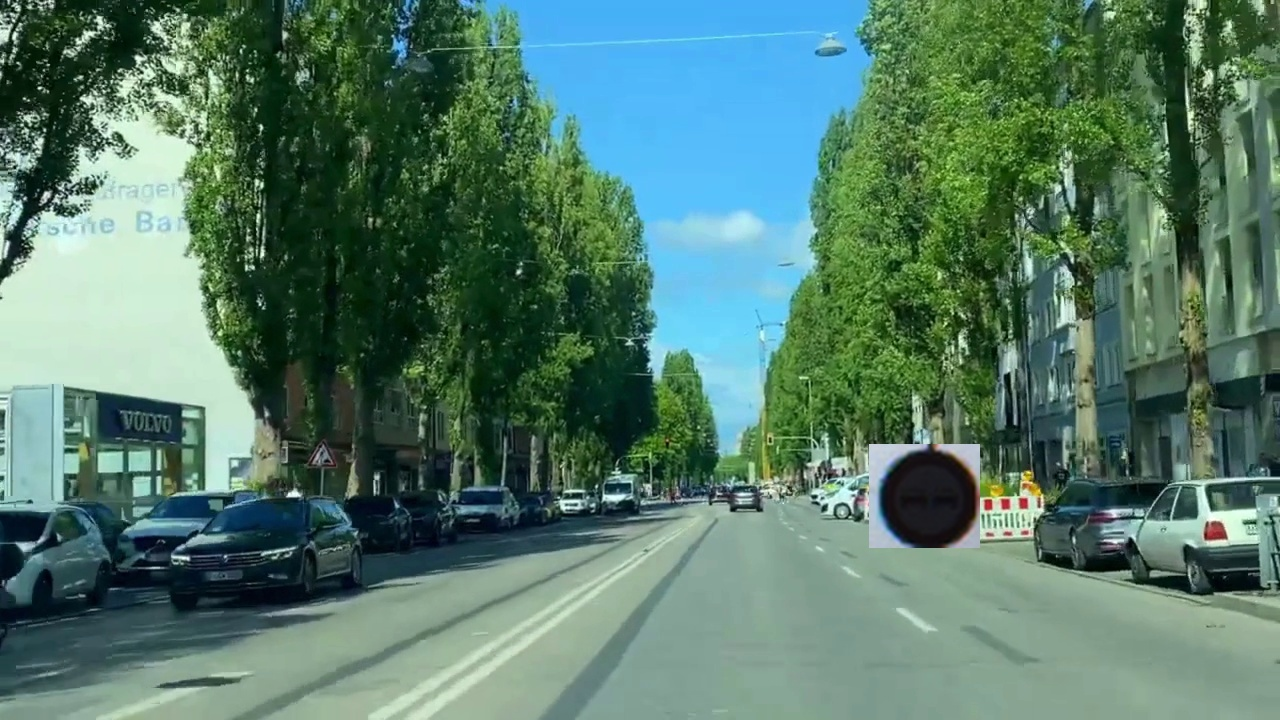No passing: (869, 444, 980, 548)
